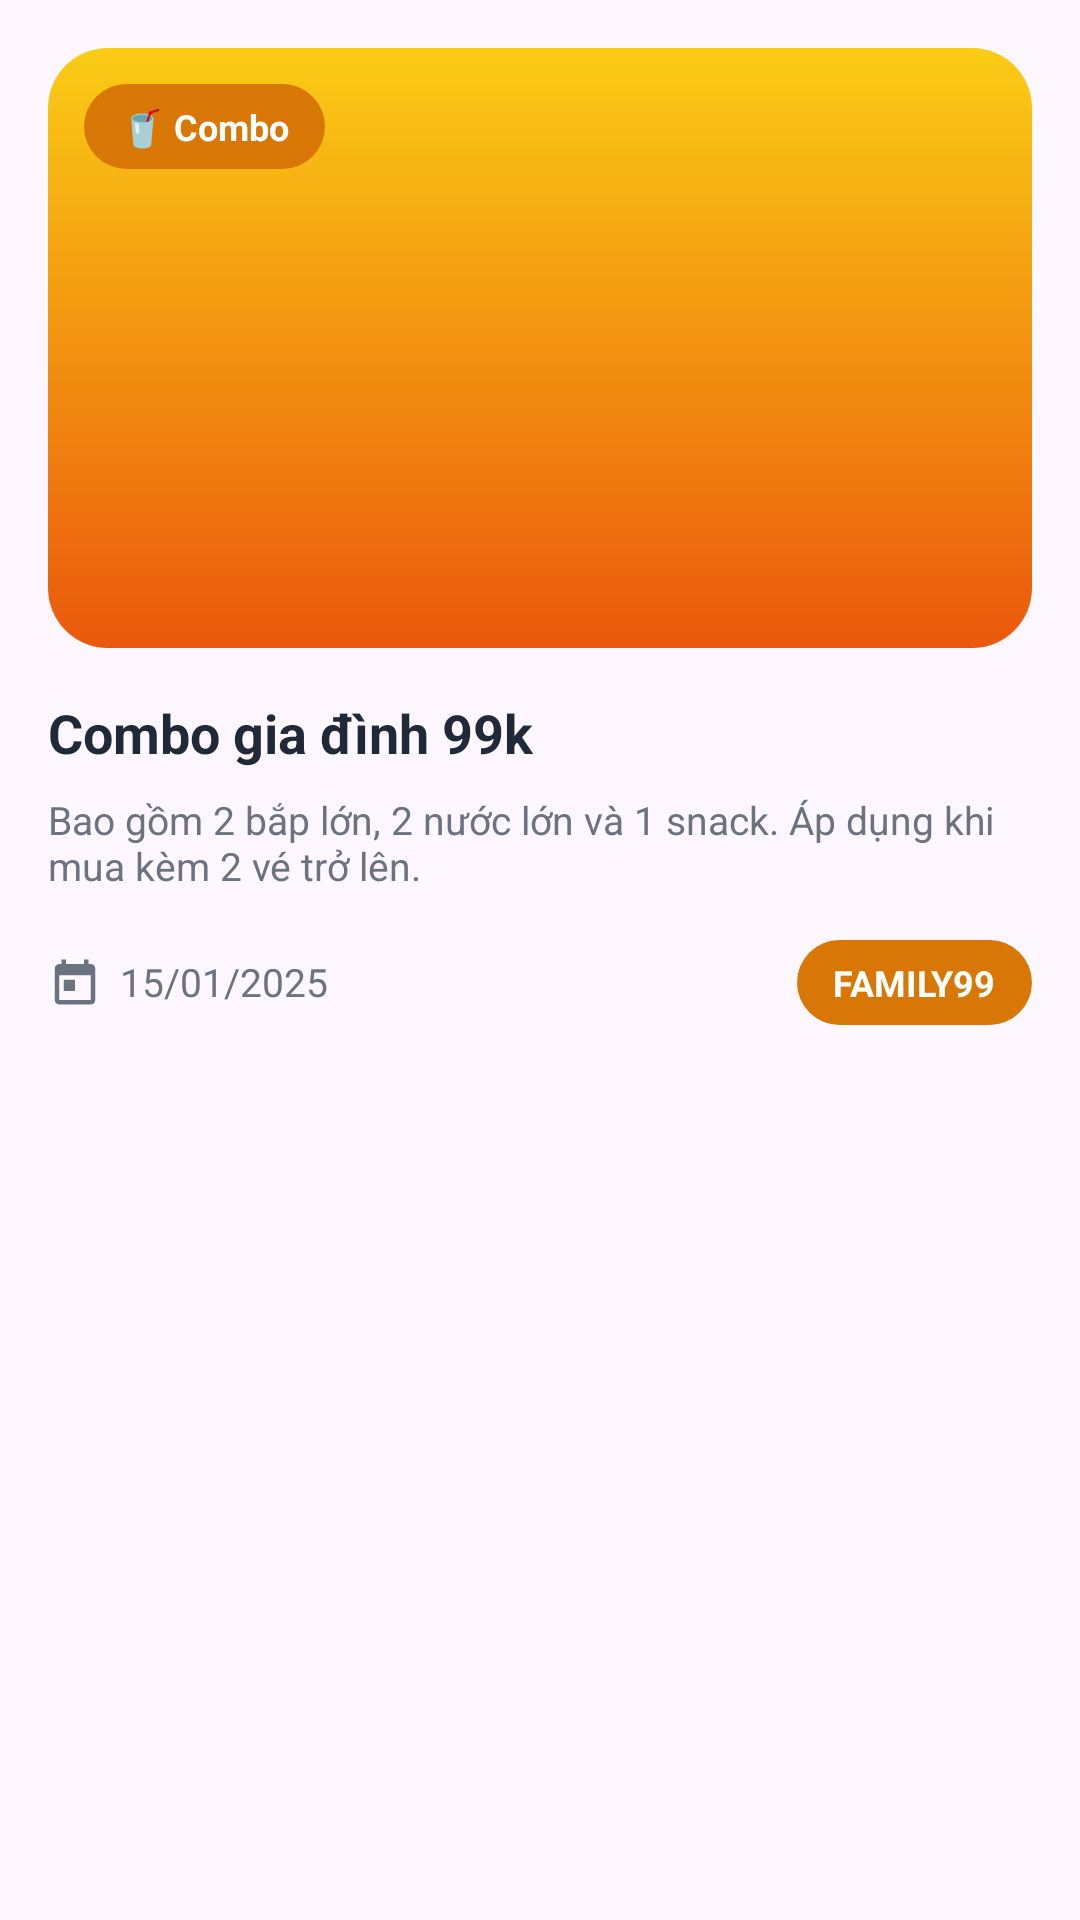

Named icons in this screenshot (1080x1920) and their centers, (x=x, y=y):
calendar: (x=75, y=982)
